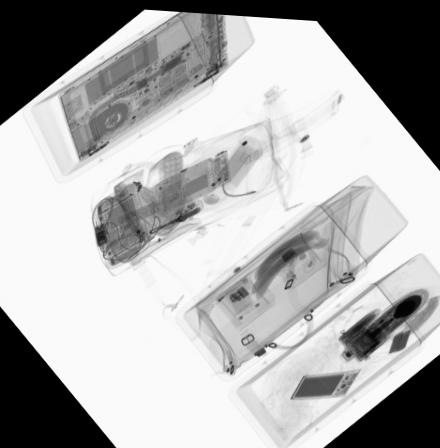Lighter: (93, 199, 106, 226)
